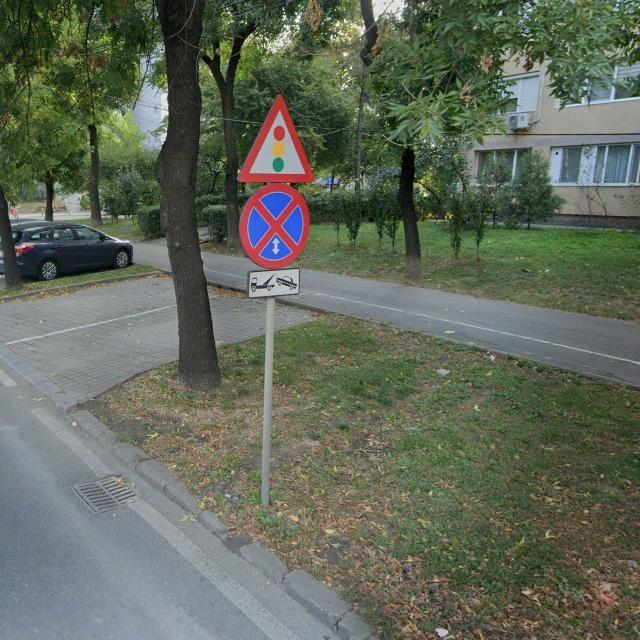forb_waiting: (237, 183, 310, 269)
